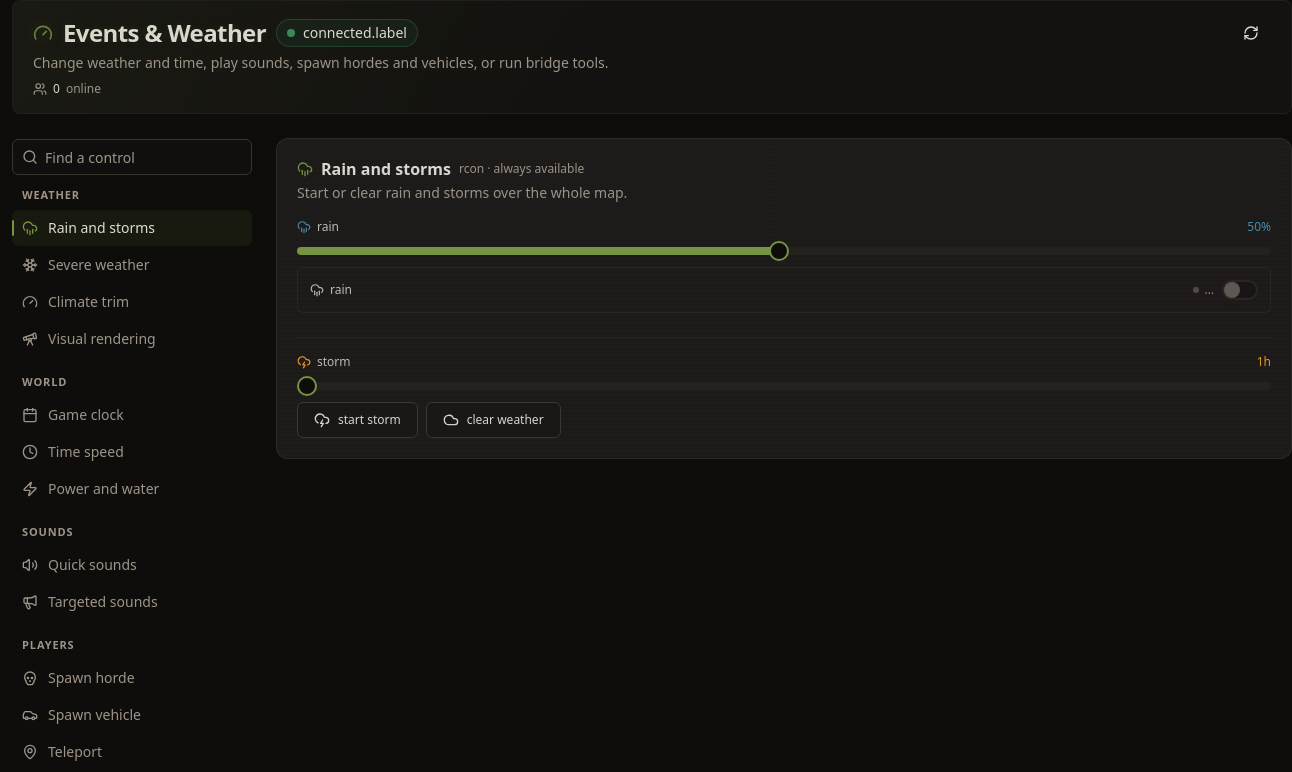
it: Events -- a Game clock pick that is not applied yet survives the bridge poll › goes back to following the game clock once the pick has been applied
Click the button "Game clock" at point(132, 415), box [12,397,252,433]
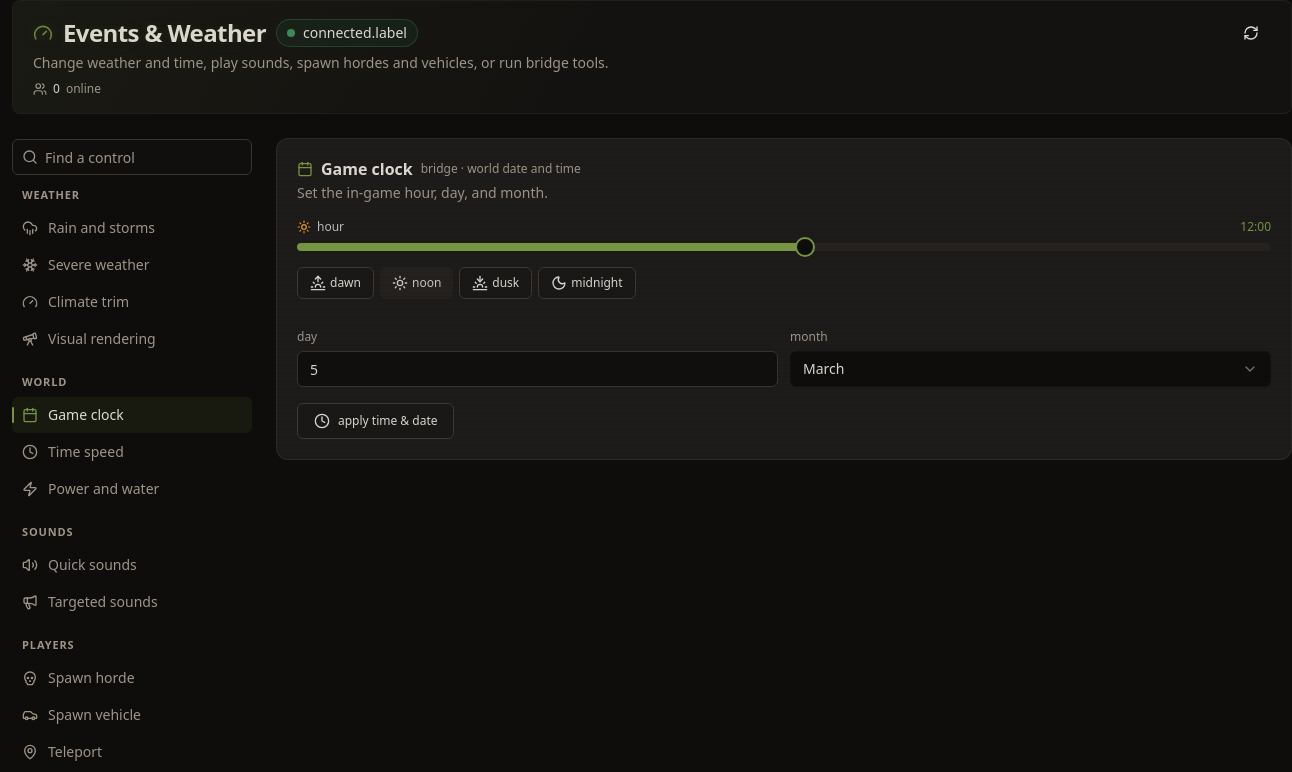
Click the button "dusk" at point(496, 283), box [459,267,532,299]
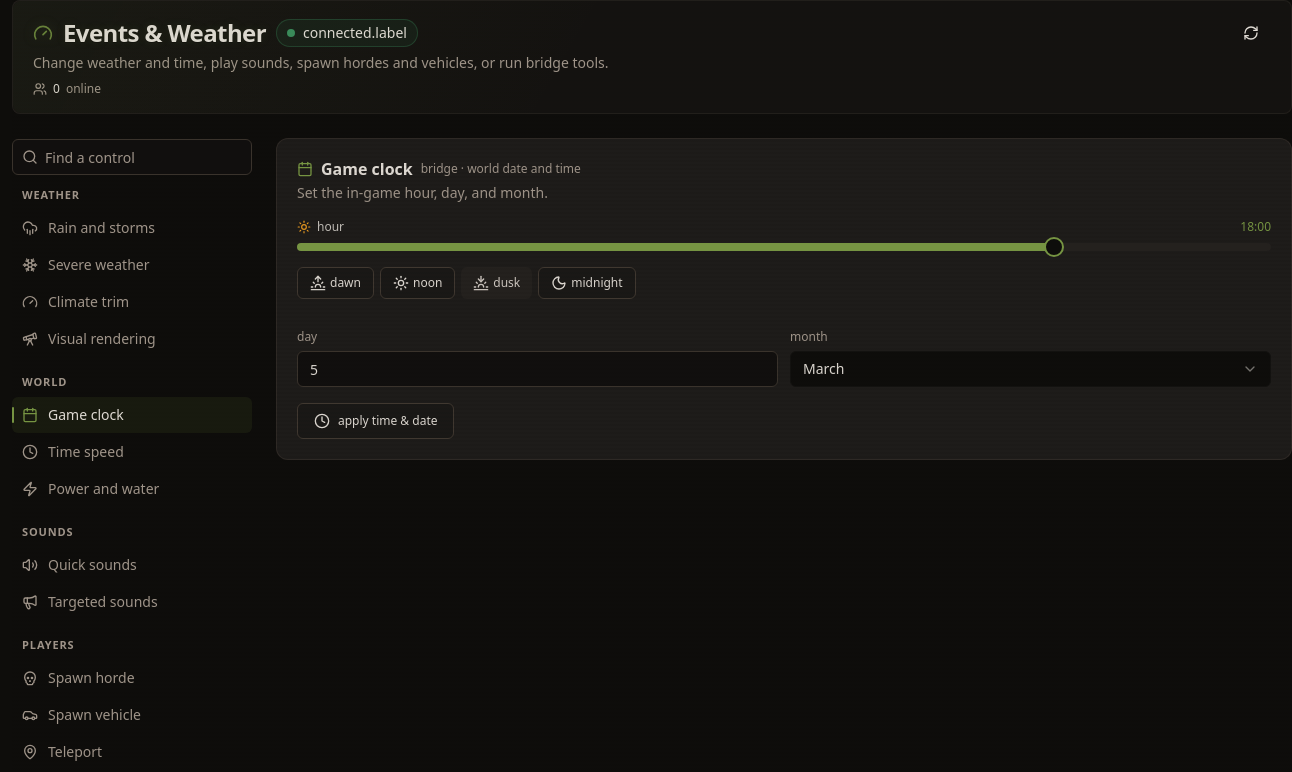
Click the button "apply time & date" at point(376, 421), box [297,403,454,439]
Wait 11000 ms
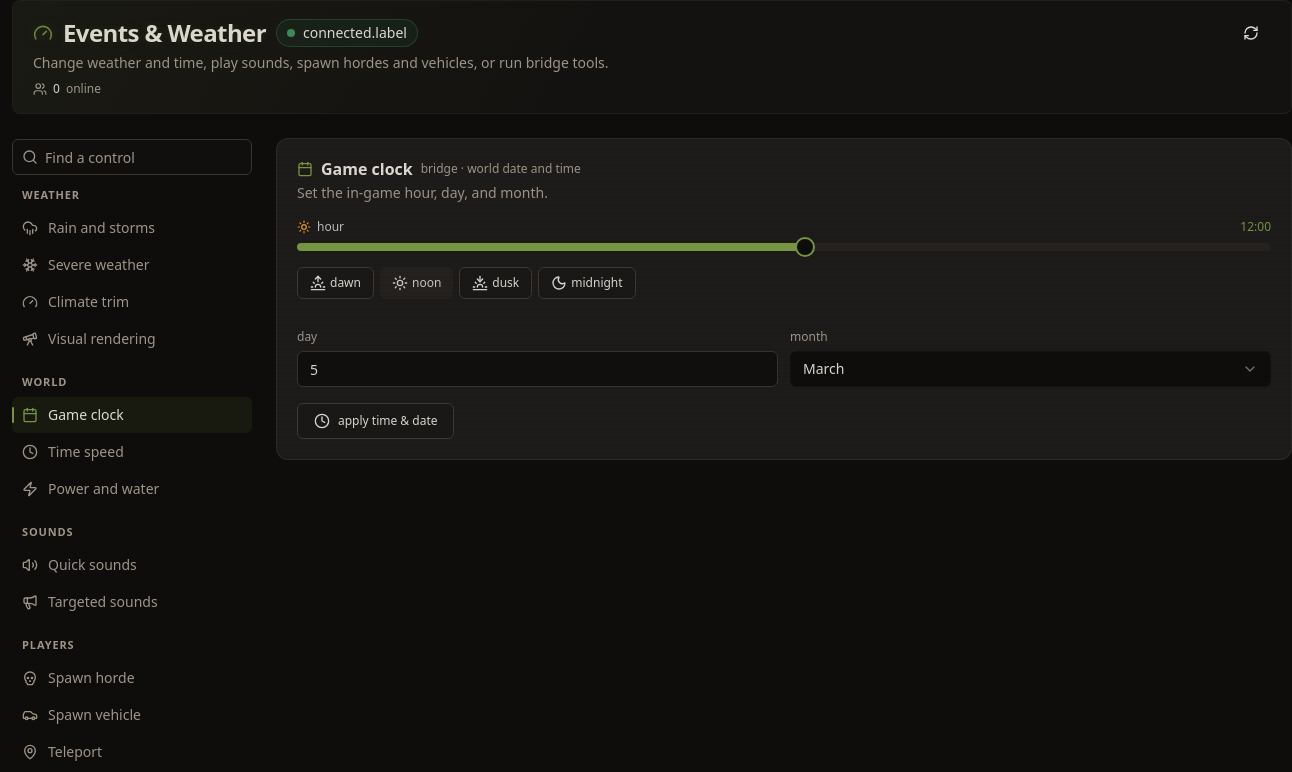
expect the text "12:00" is shown: met, box [1240,219,1271,235]
